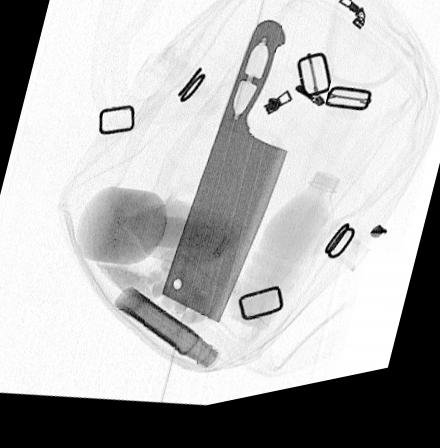Knife: (161, 31, 287, 332)
